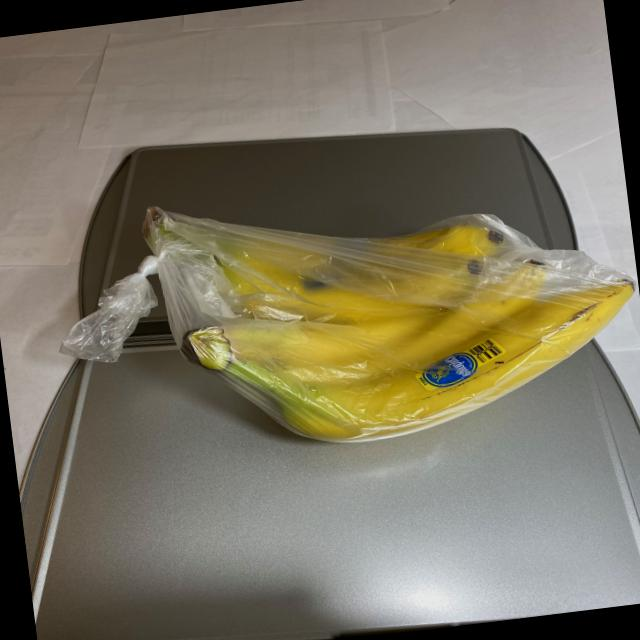banana: (117, 149, 640, 470)
